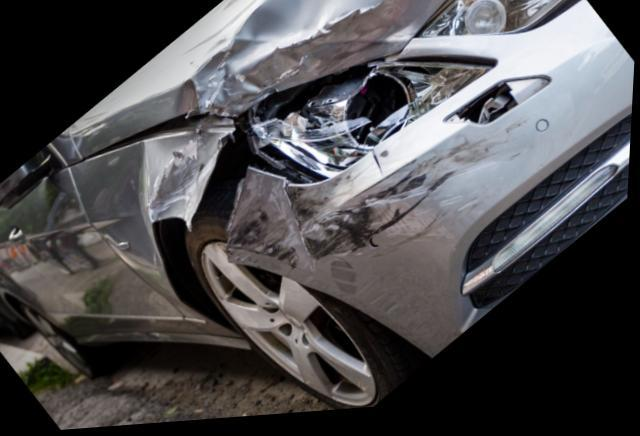crack: (373, 154, 385, 182)
dent: (174, 0, 450, 116), (145, 133, 227, 223)
dislocated part: (194, 48, 636, 361)
lamp broken: (250, 64, 494, 185)
scratch: (226, 125, 528, 275)
